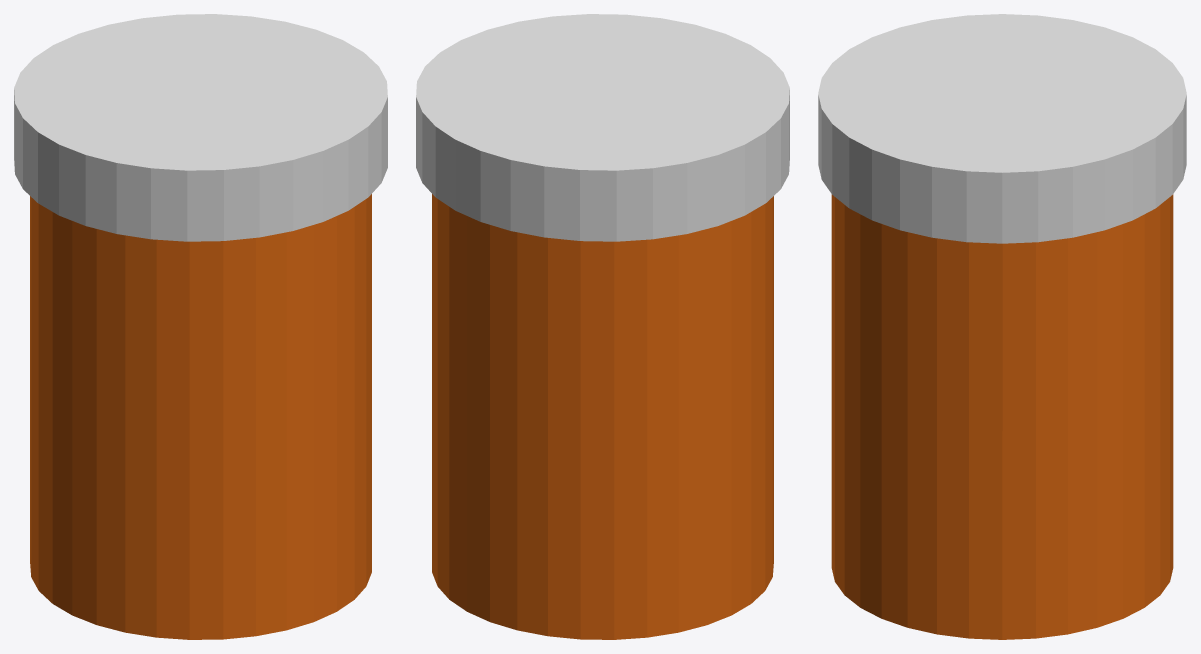
File: pillbottle.fbx
3 views of the same model, side by side, from view 1: azimuth 30°, elevation 25°; view 2: azimuth 150°, elevation 25°; view 3: azimuth 270°, elevation 25° (orthographic).
Parts seen in each view (by area): view 1: Cylinder, Cylinder.001; view 2: Cylinder, Cylinder.001; view 3: Cylinder, Cylinder.001.
Boxes of the visible parts, x1=… form: Cylinder: x1=30, y1=194, x2=371, y2=639; Cylinder.001: x1=14, y1=14, x2=387, y2=241; Cylinder: x1=432, y1=194, x2=773, y2=639; Cylinder.001: x1=416, y1=14, x2=789, y2=241; Cylinder: x1=831, y1=194, x2=1173, y2=639; Cylinder.001: x1=818, y1=14, x2=1186, y2=243.
Size of the model in its own units: 220 by 306 by 216.
